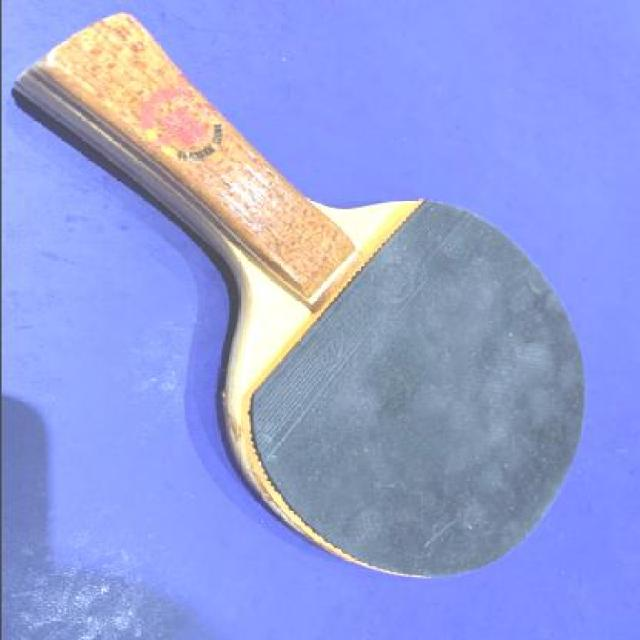table_tennis_racket: (214, 196, 603, 584)
